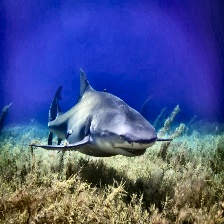shark: (28, 67, 173, 158)
